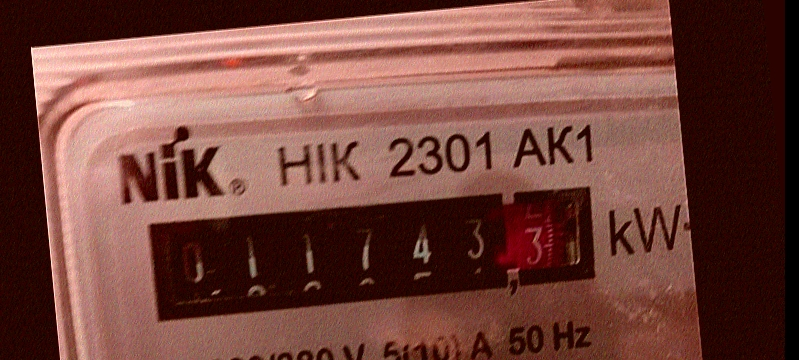0: (173, 237, 206, 287)
1: (293, 228, 318, 278), (238, 233, 259, 283)
3: (456, 214, 488, 263), (517, 223, 545, 269)
4: (402, 218, 434, 268)
7: (348, 224, 377, 274)
screen: (129, 173, 603, 333)
